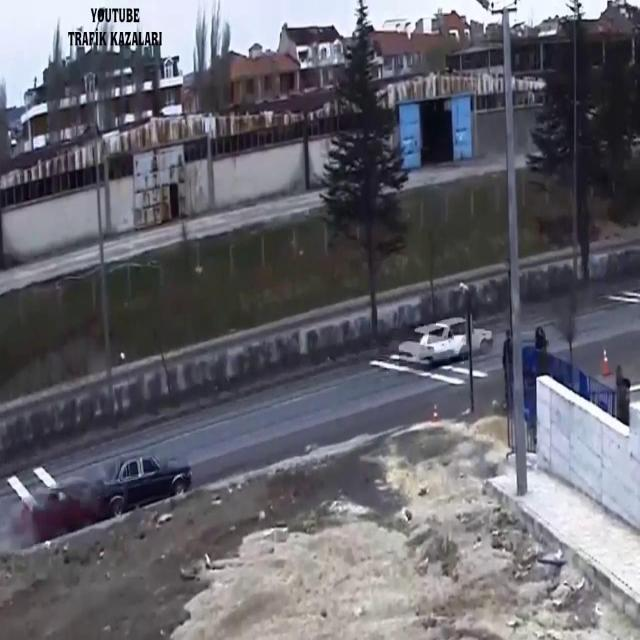accident: (12, 453, 192, 541)
